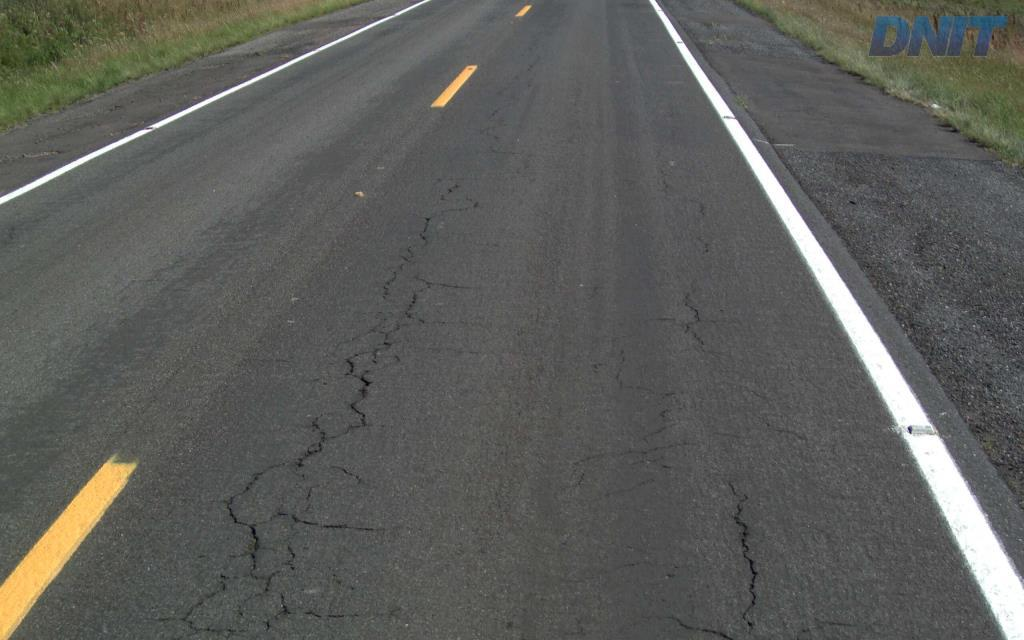crack: (222, 471, 280, 596), (728, 493, 760, 634), (291, 416, 328, 471)
